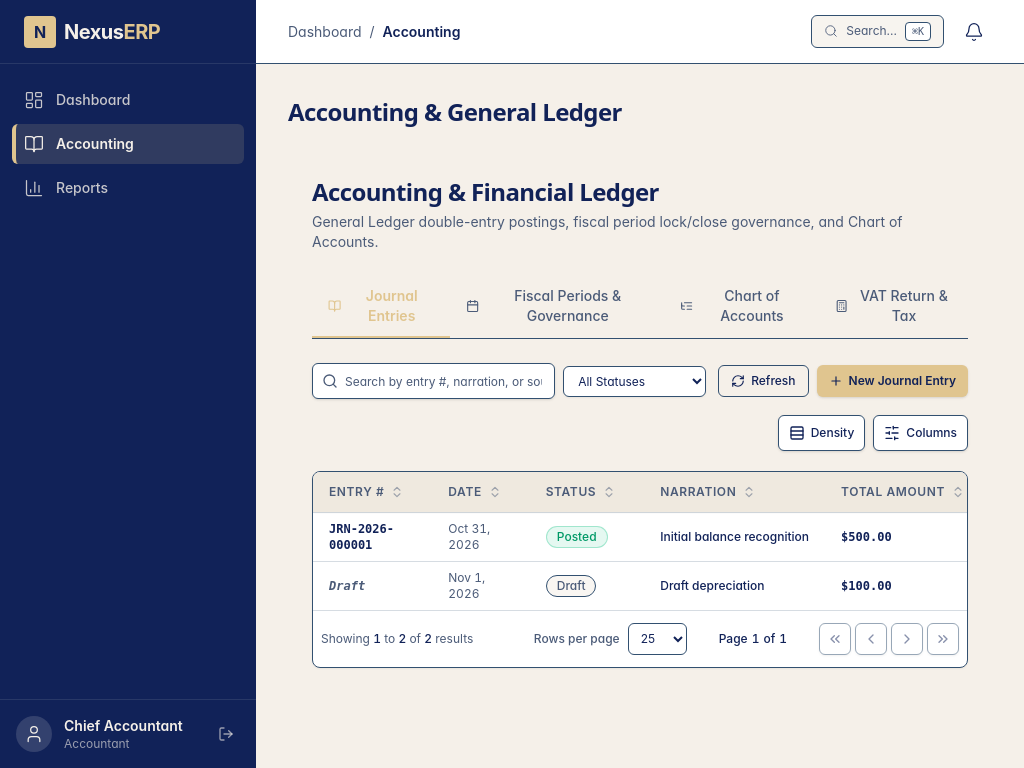
it: AccountingIndex Page Component › opens and closes manual journal modal
Expected: the text "JRN-2026-000001" is shown, x1=329 y1=522 x2=394 y2=552
Step 1. Click the button "New Journal Entry" → [892, 381], box x1=816 y1=365 x2=968 y2=397
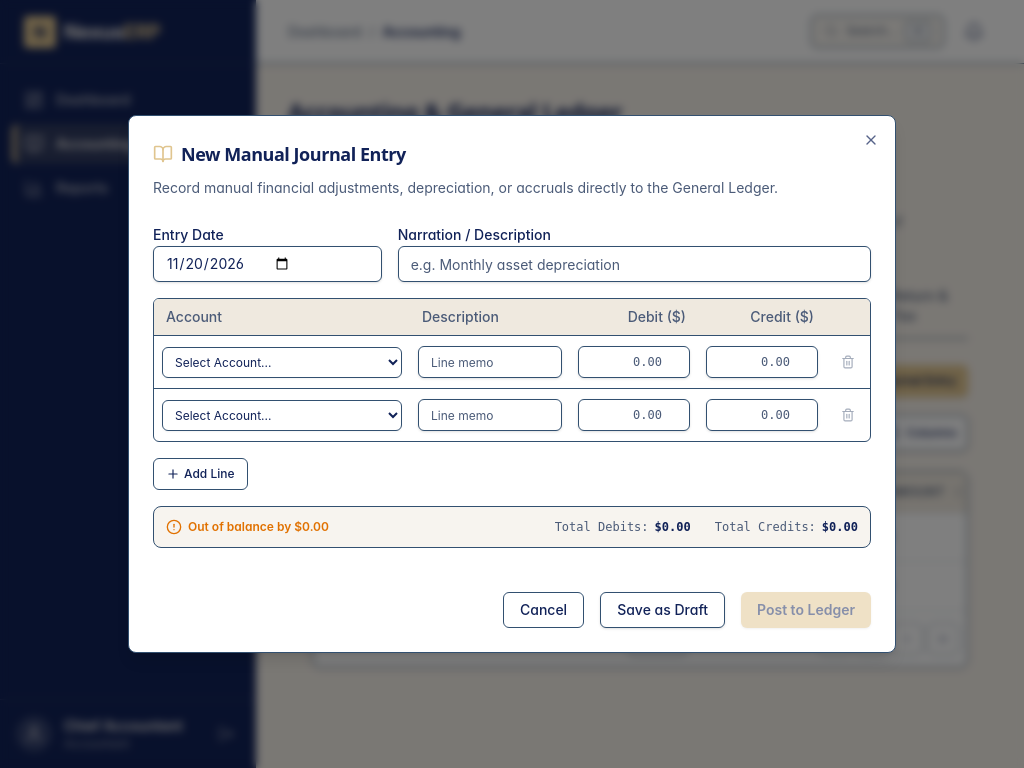
Expected: the heading "New Manual Journal Entry" is shown, x1=153 y1=140 x2=406 y2=168
Expected: the field labelled "Narration / Description" is shown, x1=398 y1=246 x2=871 y2=282
Expected: the button "Save as Draft" is shown, x1=600 y1=592 x2=725 y2=628
Step 2. Click the button "Cancel" → [544, 610], box x1=503 y1=592 x2=584 y2=628
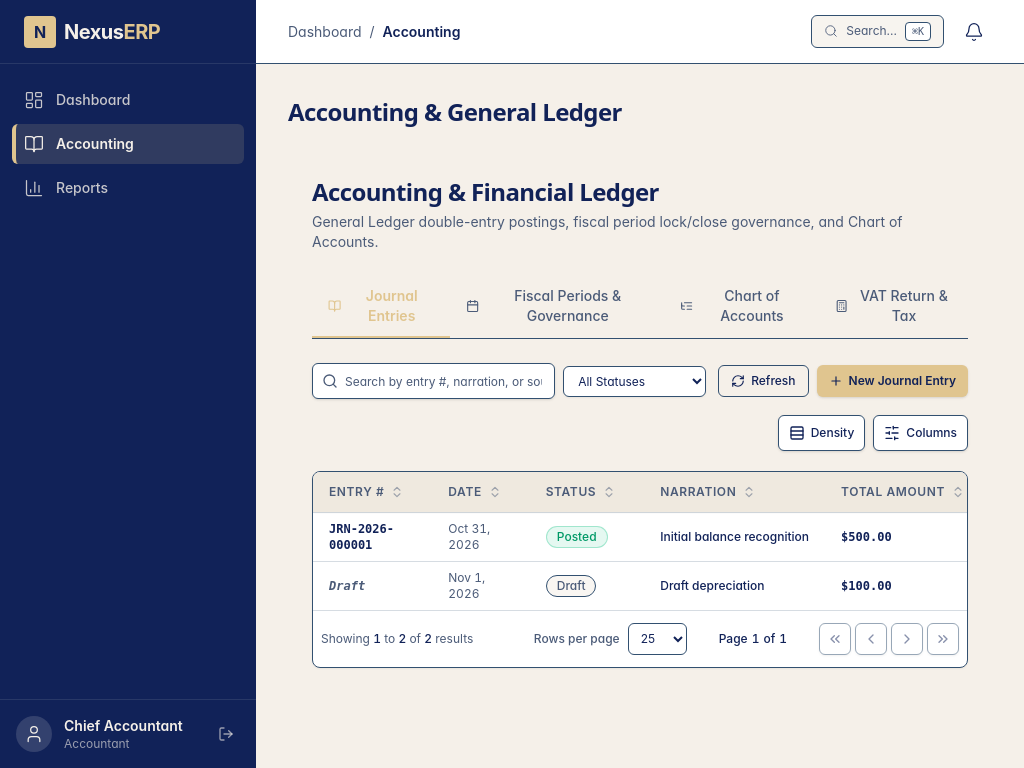
Expected: the heading "New Manual Journal Entry" is gone
